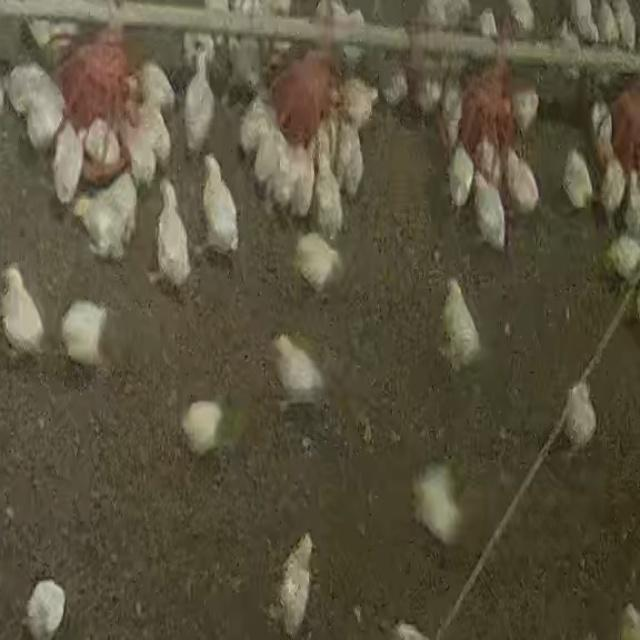chicken: (74, 170, 139, 262), (191, 150, 247, 256), (434, 276, 488, 373), (268, 331, 329, 415), (412, 461, 464, 547), (274, 532, 316, 636), (1, 266, 47, 358), (155, 179, 193, 287), (61, 298, 111, 374), (554, 380, 598, 466), (183, 46, 216, 154), (471, 169, 511, 256), (292, 232, 342, 294), (51, 117, 85, 206), (315, 148, 347, 239), (181, 397, 228, 458), (23, 578, 68, 638), (503, 145, 541, 216), (81, 112, 123, 166), (562, 147, 594, 210), (599, 155, 627, 224), (603, 234, 640, 284), (448, 142, 475, 210)
